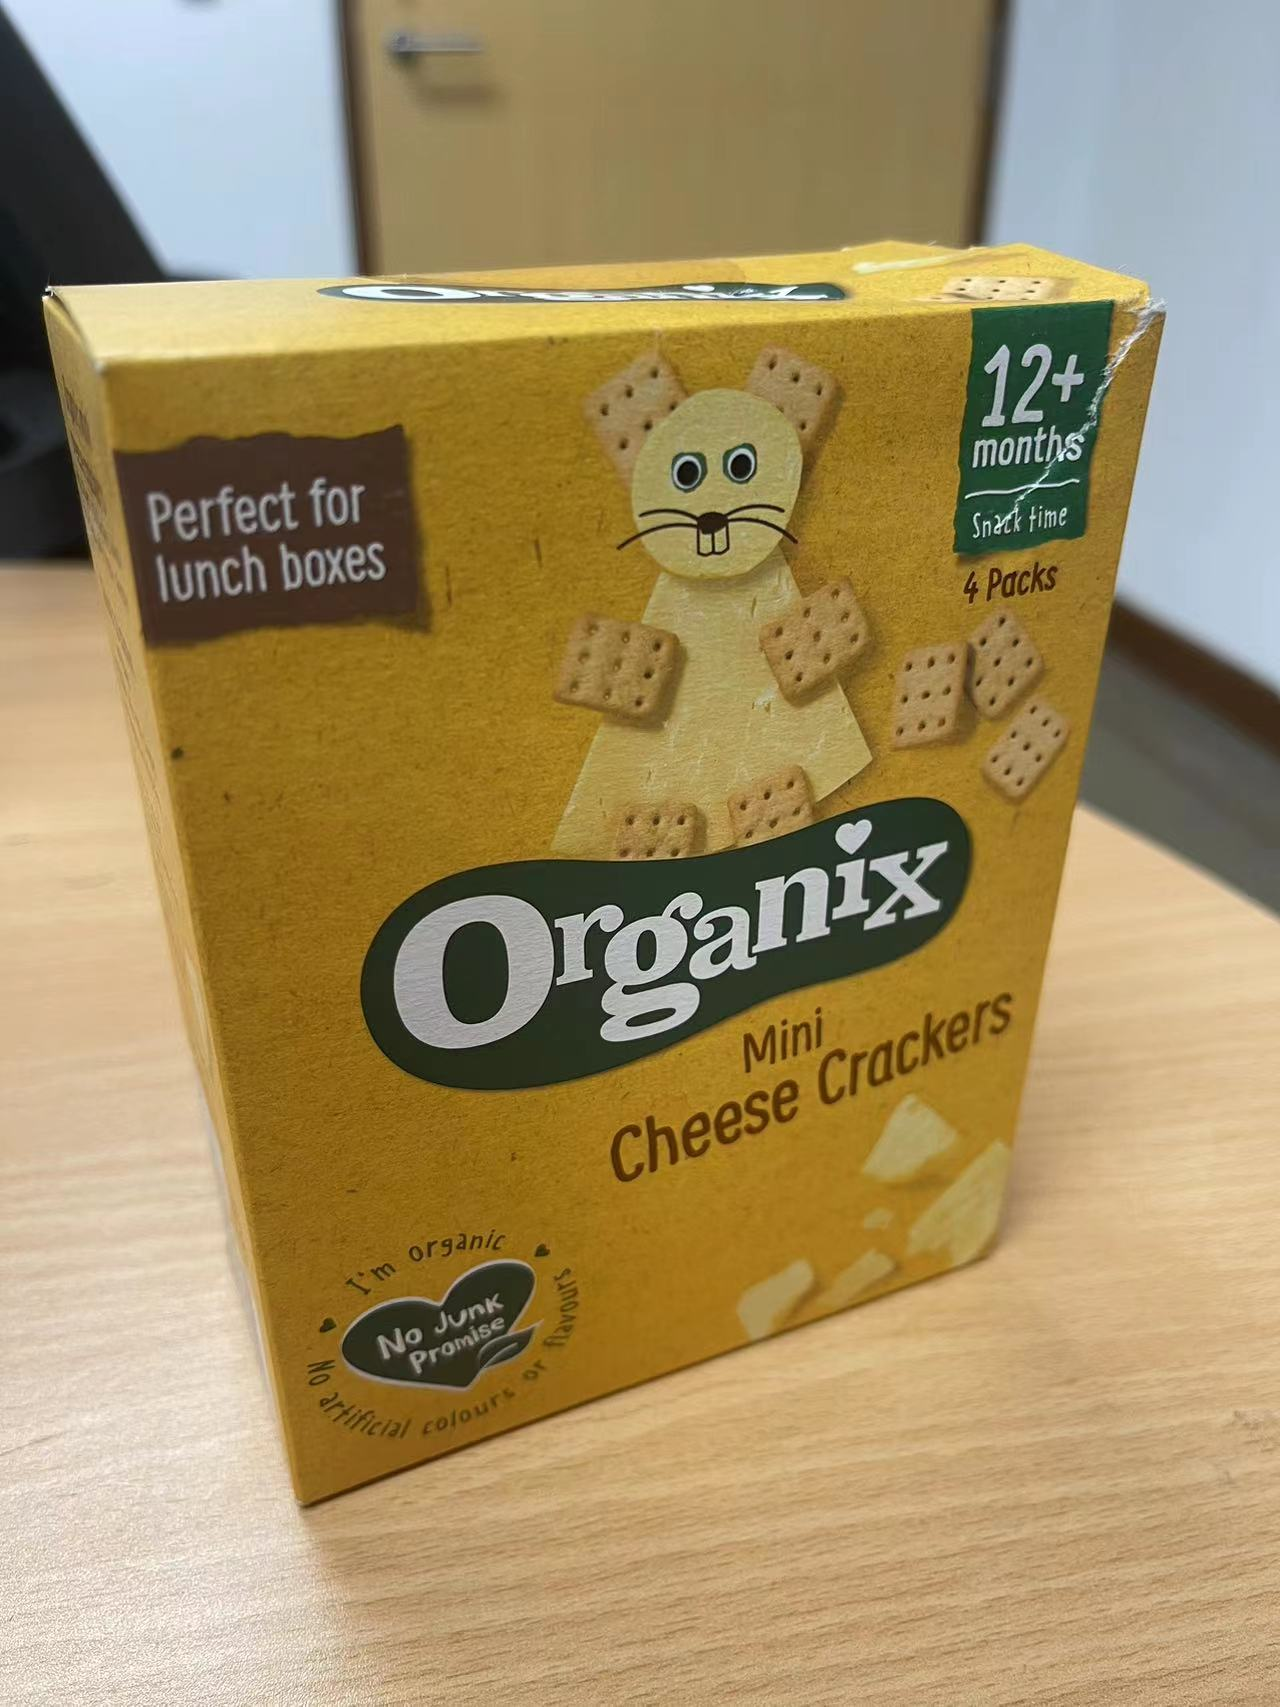Crackers_1-99g_NonHalal_NonHealthy: (38, 249, 1175, 1503)
